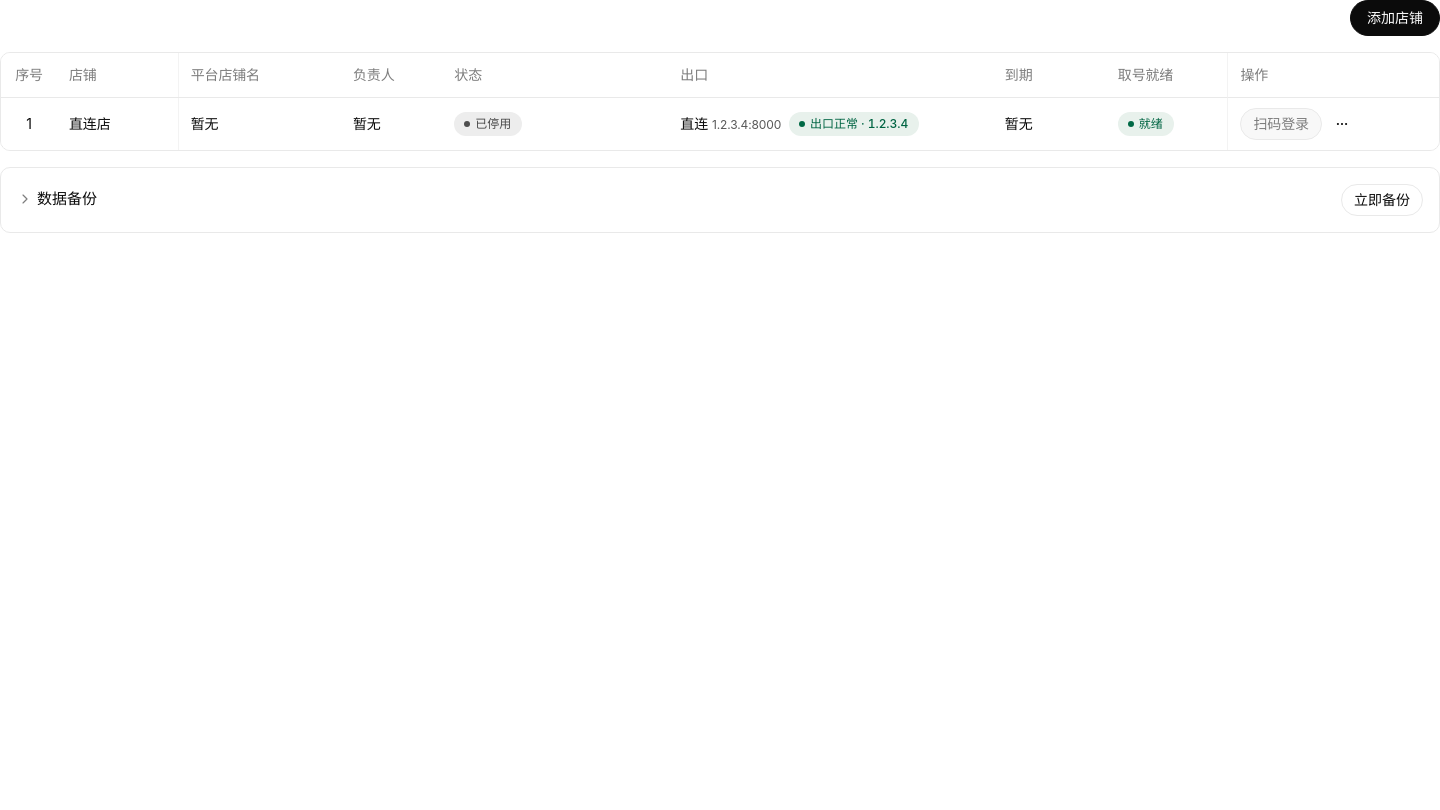
Test: 添加店铺的出口区 › 直连店已停用时直连可选
Expected: the table is shown, left=1, top=53, right=1439, bottom=150
Click the button "添加店铺" at [1395, 18], box left=1350, top=0, right=1439, bottom=36
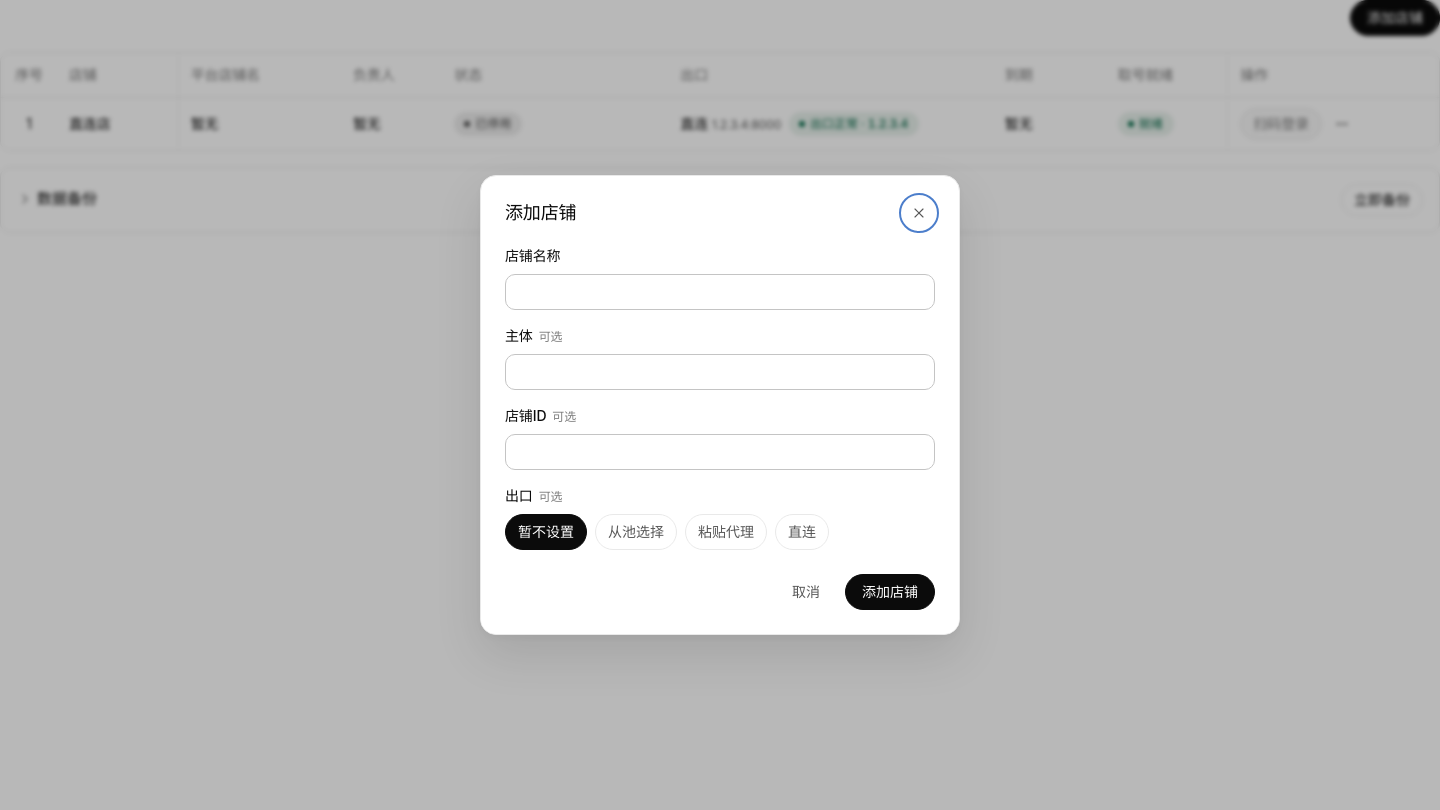
Expected: the button "直连" is enabled, left=775, top=514, right=829, bottom=550
